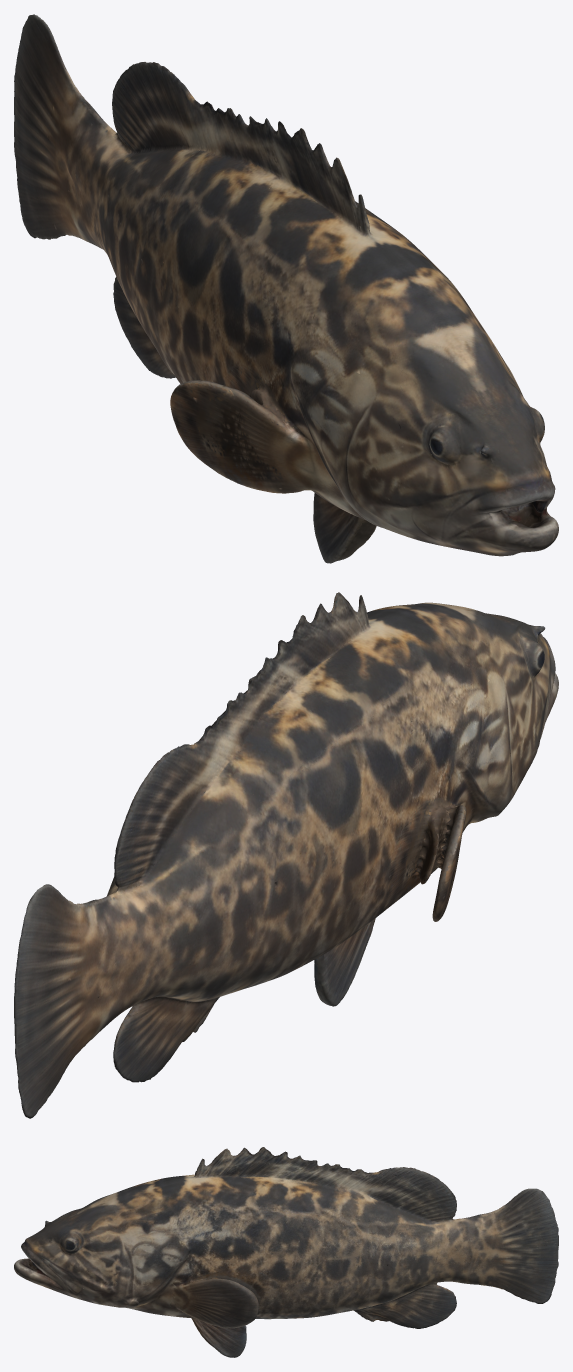
Rendered from Mero.glb.
3 views of the same model, one above another, from view 1: azimuth 30°, elevation 25°; view 2: azimuth 150°, elevation 25°; view 3: azimuth 270°, elevation 25° (orthographic). The views are drawn at different scales.
Bounding box in the file's own units: 0.6075 × 0.8563 × 2.
Materials: 1 (1 with a texture image).
